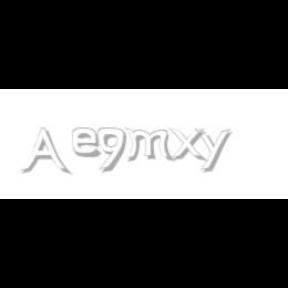9: (98, 128, 126, 172)
A: (20, 128, 68, 176)
e: (72, 128, 106, 158)
m: (124, 128, 176, 162)
x: (168, 128, 210, 162)
y: (195, 128, 235, 172)
